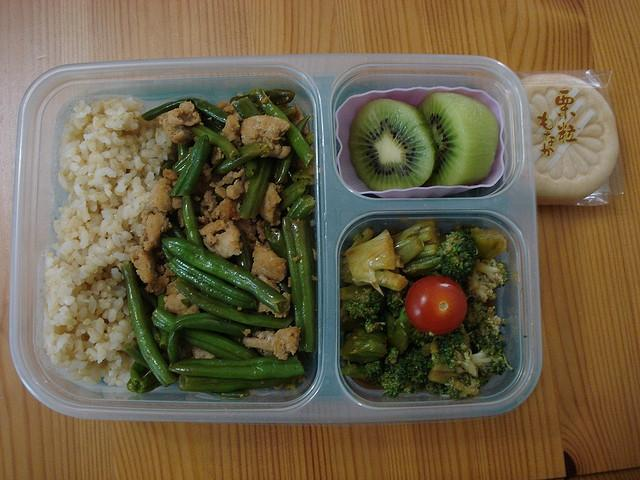broccoli: (401, 224, 480, 284), (457, 334, 507, 378), (382, 289, 414, 355), (464, 258, 508, 304), (464, 299, 501, 353), (340, 284, 387, 322), (366, 358, 410, 398), (340, 328, 388, 364), (441, 372, 481, 399), (425, 381, 448, 396)
green bean: (162, 237, 290, 315), (120, 264, 177, 388), (174, 276, 295, 329), (150, 307, 262, 360), (167, 312, 279, 364), (250, 88, 314, 170), (167, 256, 257, 310), (282, 217, 316, 353), (169, 354, 305, 380), (169, 134, 211, 196), (274, 115, 310, 185), (238, 156, 276, 220), (177, 374, 300, 392), (141, 98, 228, 123), (210, 141, 271, 175), (192, 124, 240, 160), (278, 178, 312, 212), (182, 196, 204, 248), (235, 230, 252, 294), (264, 220, 288, 261), (286, 194, 316, 222), (232, 97, 262, 119), (136, 372, 162, 394), (292, 162, 314, 185), (178, 144, 189, 160), (287, 167, 296, 179)
kiwi: (348, 99, 438, 191), (419, 92, 498, 186)
tomato: (406, 276, 466, 336)
